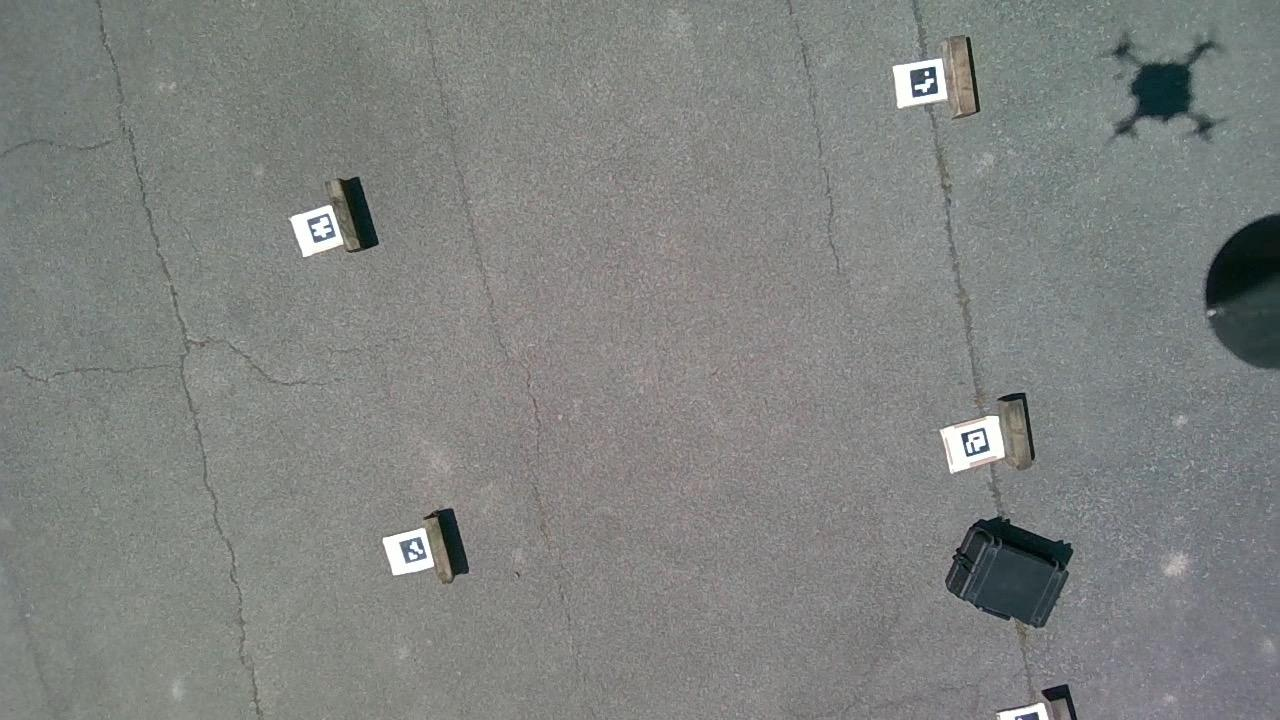rako: (944, 518, 1072, 629)
